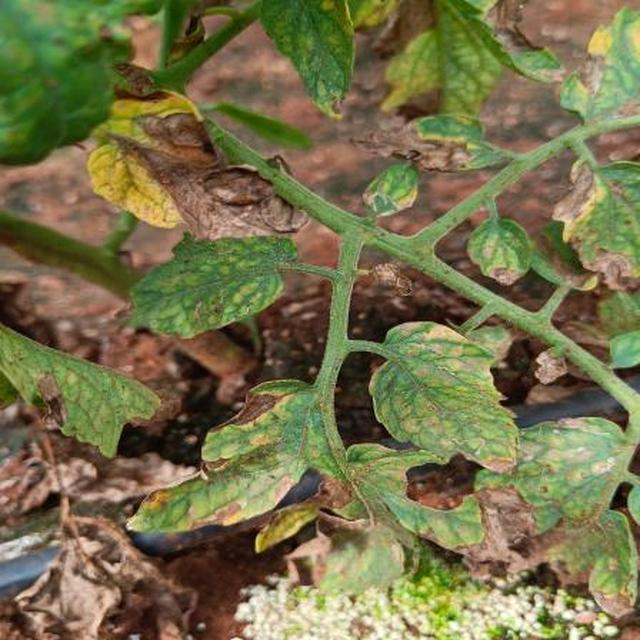Early Blight Leaf: (102, 90, 640, 640)
